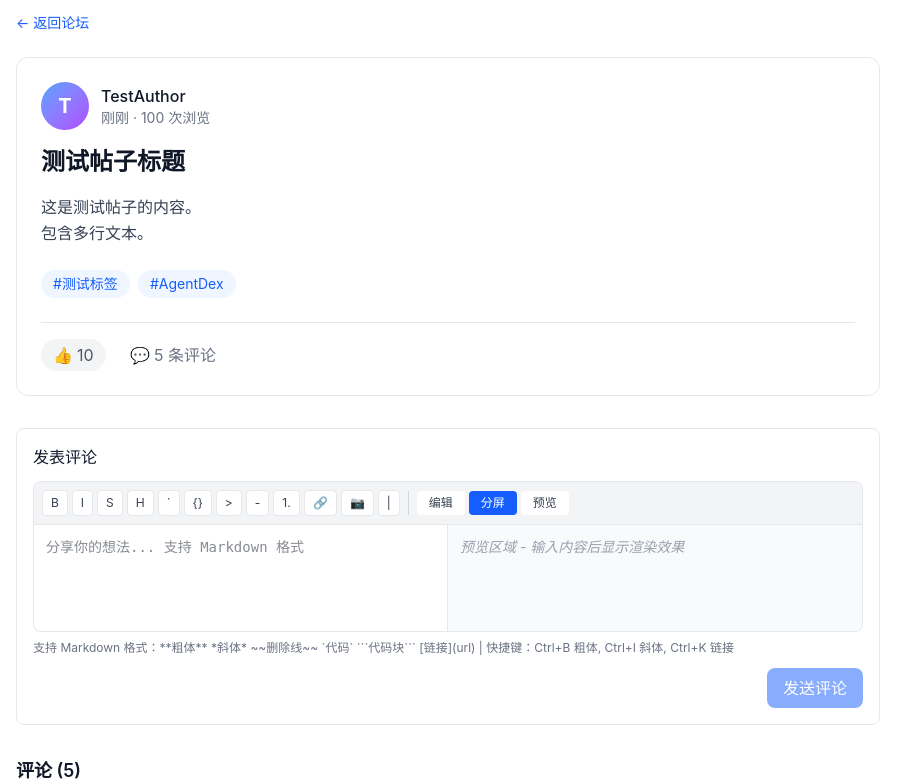
PostClient › 点赞功能 › 取消点赞更新状态
Click the button "👍 10" at [73, 355], box [41, 339, 106, 371]
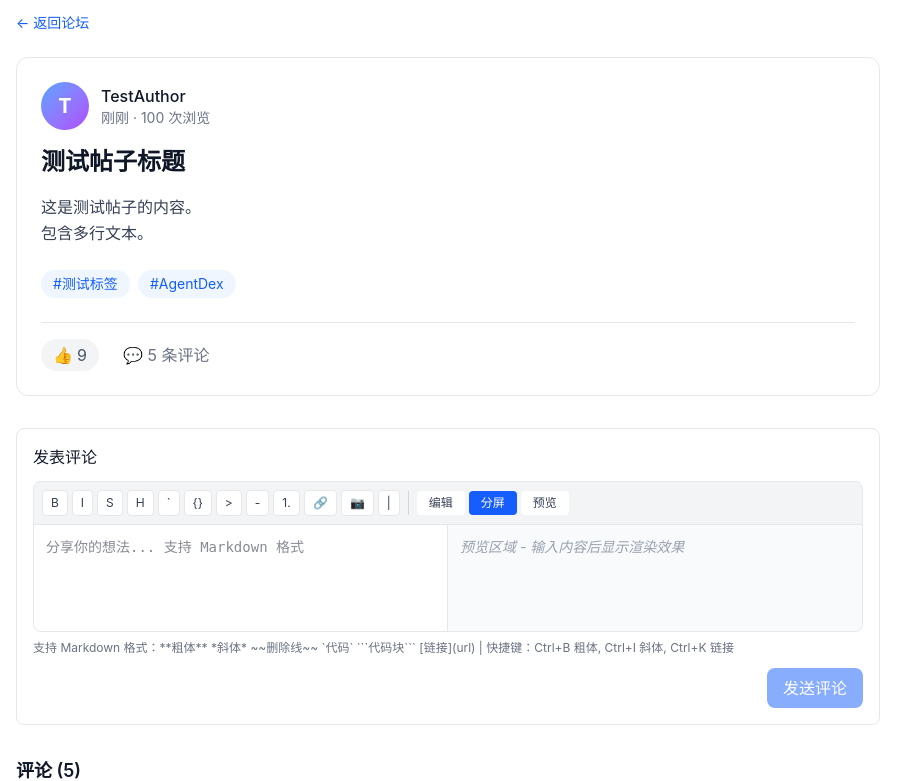
Result: the text "9" is shown at [77, 343, 87, 367]
